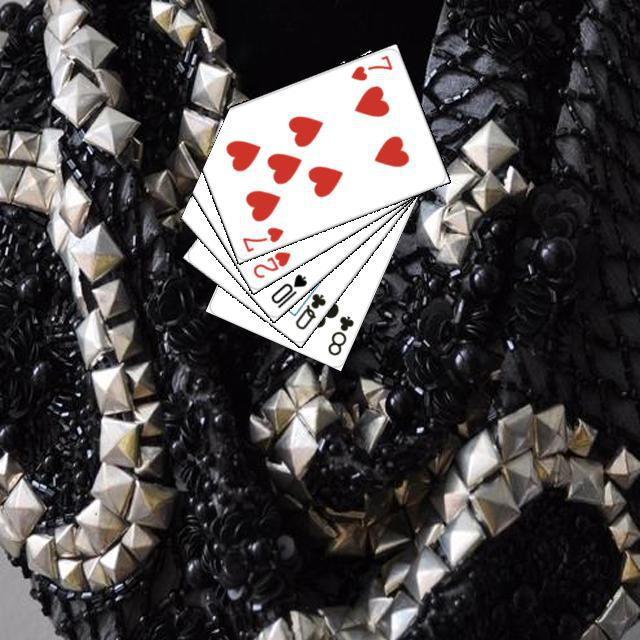10s: (266, 269, 309, 310)
2h: (248, 246, 292, 280)
7h: (237, 222, 285, 254), (346, 50, 394, 82)
8c: (323, 311, 356, 357)
Qc: (287, 280, 328, 332)
